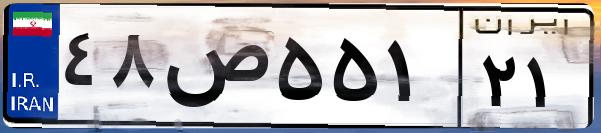1: (385, 28, 445, 110), (525, 38, 570, 115)
2: (475, 38, 525, 113)
4: (57, 26, 110, 100)
5: (270, 28, 330, 110), (330, 28, 385, 110)
8: (110, 28, 158, 98)
ص: (158, 20, 270, 120)
